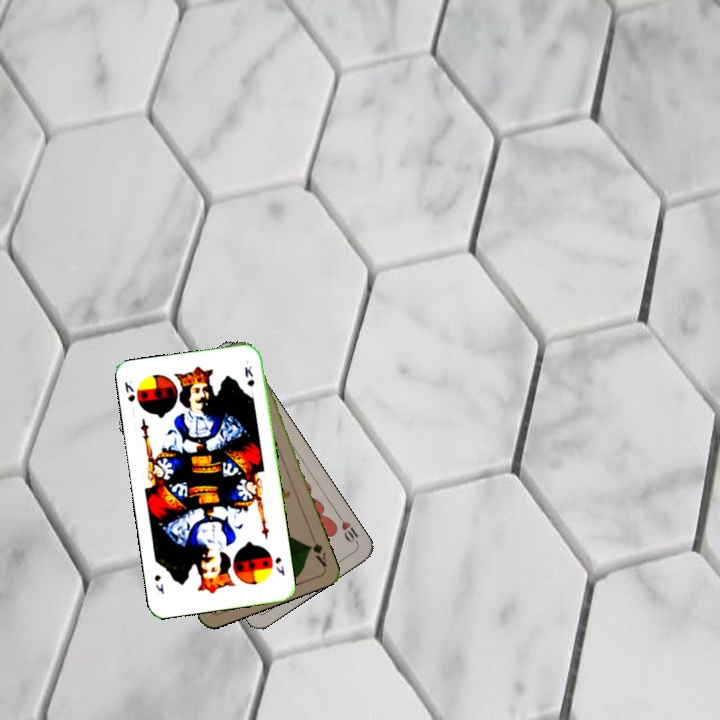GA: (304, 531, 329, 569)
H10: (334, 511, 361, 547)
SK: (120, 377, 137, 404), (271, 553, 287, 579)
